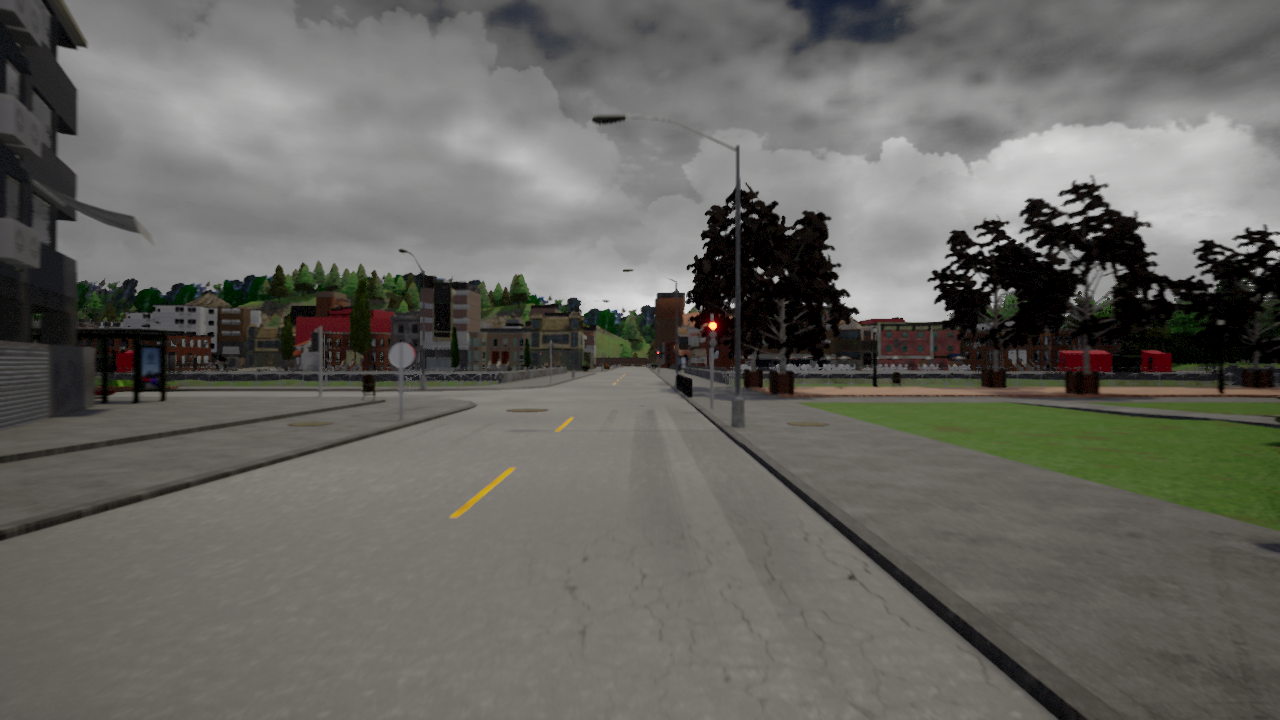red: (706, 319, 718, 348)
